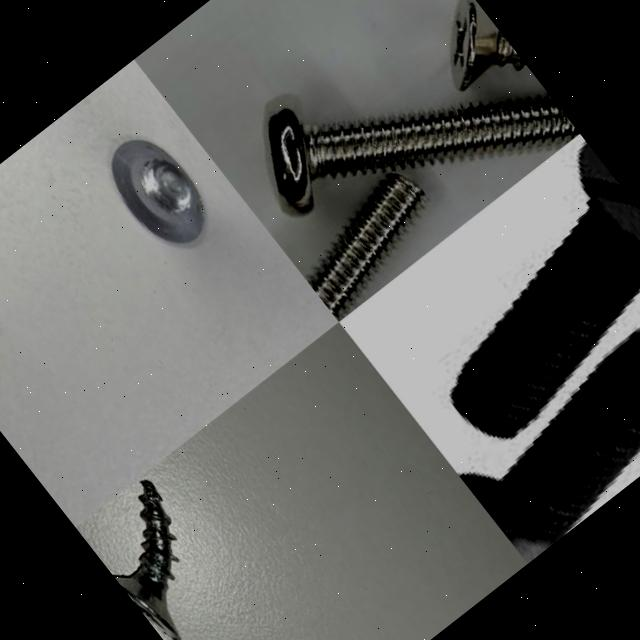Screw: (448, 139, 640, 441), (458, 329, 640, 563), (268, 96, 580, 215), (308, 174, 423, 320), (114, 480, 181, 640), (113, 141, 206, 244), (450, 0, 528, 90)
